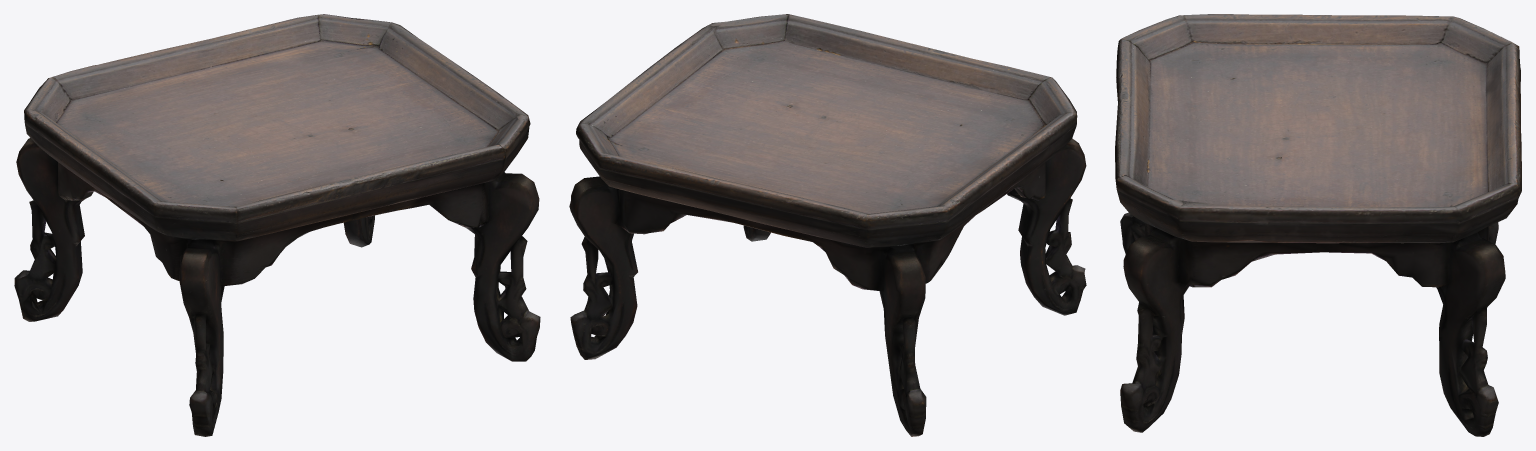
File: SM_Rectangular_Dining_Table.fbx
The picture shows the model from 3 angles, left to right: view 1: azimuth 30°, elevation 25°; view 2: azimuth 150°, elevation 25°; view 3: azimuth 270°, elevation 25°; orthographic projection. The views are drawn at different scales.
Visible parts, largest first — view 1: KCDF_2022_prop_Rectangular_Dining_Table_Mesh; view 2: KCDF_2022_prop_Rectangular_Dining_Table_Mesh; view 3: KCDF_2022_prop_Rectangular_Dining_Table_Mesh.
Part boxes in pixels (left/top/right/bottom): KCDF_2022_prop_Rectangular_Dining_Table_Mesh: left=14, top=14, right=540, bottom=436; KCDF_2022_prop_Rectangular_Dining_Table_Mesh: left=569, top=14, right=1086, bottom=436; KCDF_2022_prop_Rectangular_Dining_Table_Mesh: left=1115, top=14, right=1521, bottom=436.
Size of the model in its own units: 54.95 by 32.11 by 48.25.
1 material, 1 textured.
